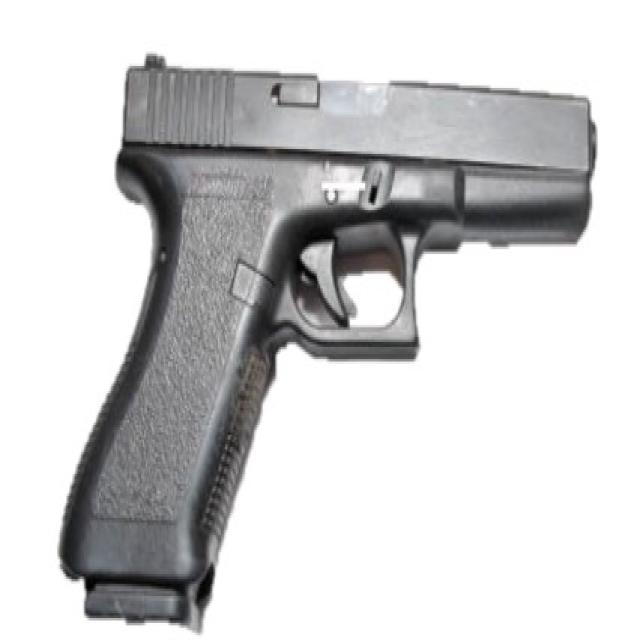pistol: (50, 51, 605, 640)
